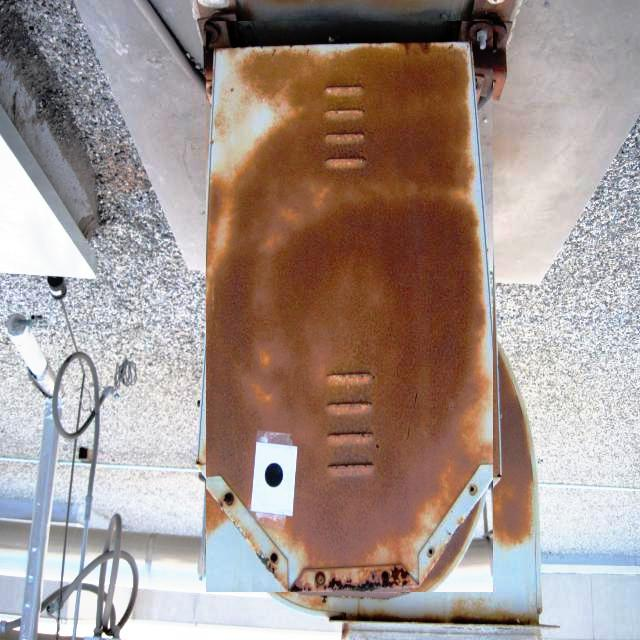Corrosion: (294, 162, 484, 574), (240, 42, 475, 191), (205, 144, 295, 438), (262, 106, 368, 323), (493, 358, 534, 545), (291, 565, 417, 593), (207, 421, 254, 492), (434, 510, 479, 580), (204, 492, 224, 534)
